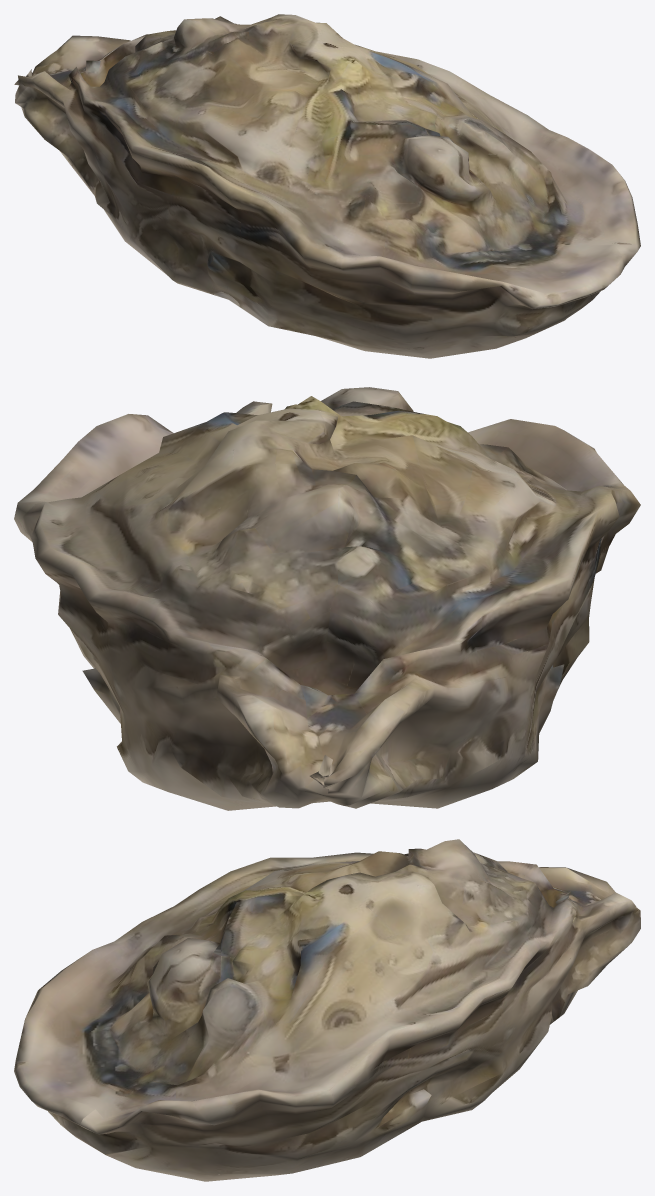
File: huitre.glb
3 renders of one model, top to bottom at view 1: azimuth 30°, elevation 25°; view 2: azimuth 150°, elevation 25°; view 3: azimuth 270°, elevation 25°, orthographic. The views are drawn at different scales.
Visible parts, largest first — view 1: tripo_node_2dd7ba1b-9431-45d3-9031-616417068969; view 2: tripo_node_2dd7ba1b-9431-45d3-9031-616417068969; view 3: tripo_node_2dd7ba1b-9431-45d3-9031-616417068969.
Boxes of the visible parts, bbox=[...] form: tripo_node_2dd7ba1b-9431-45d3-9031-616417068969: bbox=[14, 14, 640, 358]; tripo_node_2dd7ba1b-9431-45d3-9031-616417068969: bbox=[14, 387, 640, 810]; tripo_node_2dd7ba1b-9431-45d3-9031-616417068969: bbox=[14, 839, 640, 1181].
Size of the model in its own units: 0.7162 by 0.4471 by 0.968.
Materials: 1 (1 with a texture image).
